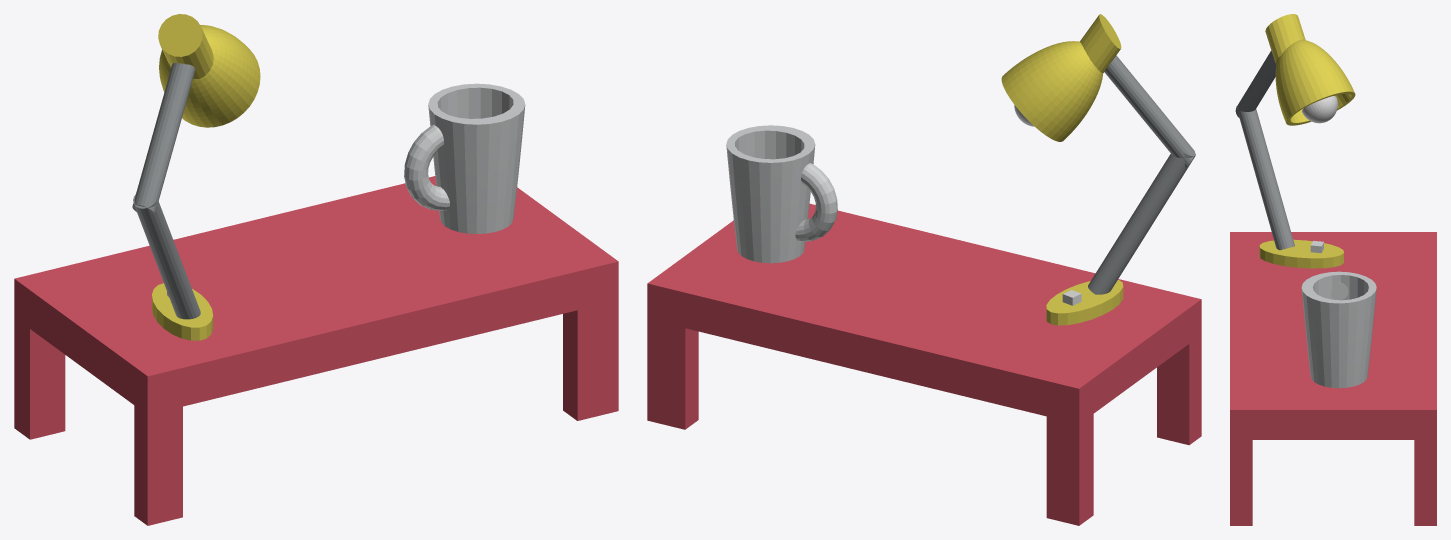
Rendered from the_model.glb.
3 renders of one model, left to right at view 1: azimuth 30°, elevation 25°; view 2: azimuth 150°, elevation 25°; view 3: azimuth 270°, elevation 25°, orthographic. The views are drawn at different scales.
Visible parts, largest first — view 1: Mesh_Mesh_head_geo.001_lambert2SG.001; view 2: Mesh_Mesh_head_geo.001_lambert2SG.001; view 3: Mesh_Mesh_head_geo.001_lambert2SG.001.
Part boxes in pixels (left/top/right/bottom): Mesh_Mesh_head_geo.001_lambert2SG.001: left=14, top=14, right=618, bottom=525; Mesh_Mesh_head_geo.001_lambert2SG.001: left=647, top=14, right=1201, bottom=525; Mesh_Mesh_head_geo.001_lambert2SG.001: left=1230, top=14, right=1436, bottom=525.
Bounding box in the file's own units: 113 × 106 × 55.
